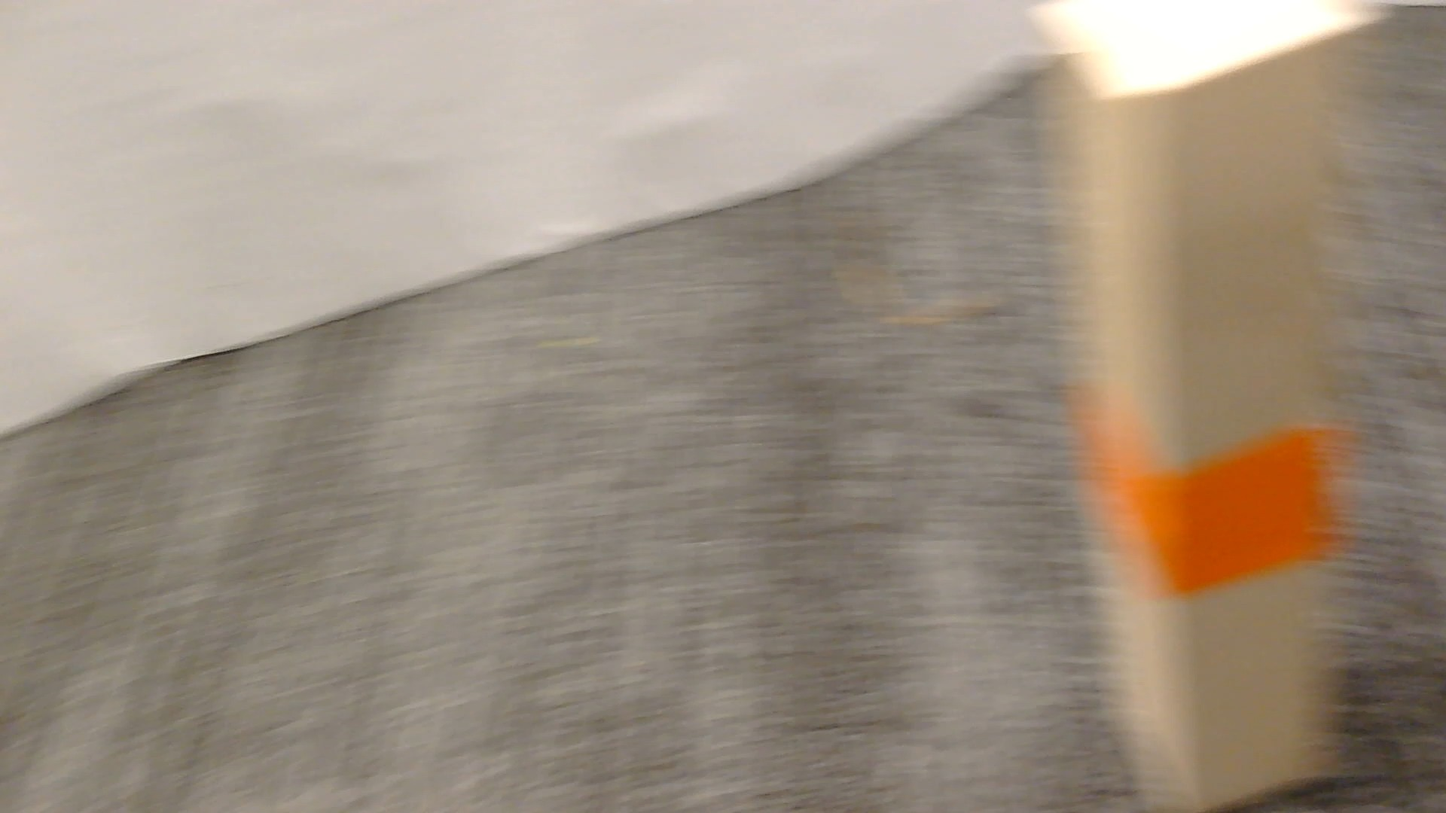Wooden Block: (1032, 0, 1378, 812)
